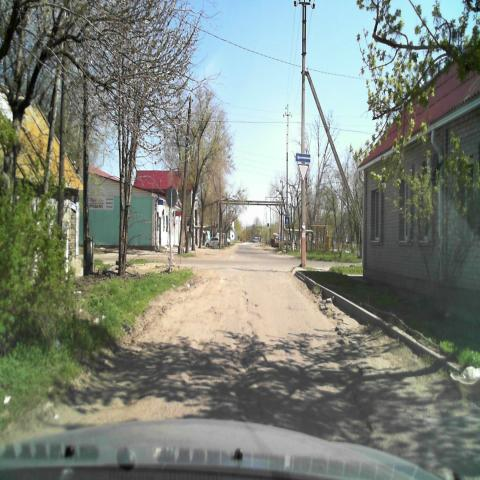5_7_2: (296, 152, 312, 162)
